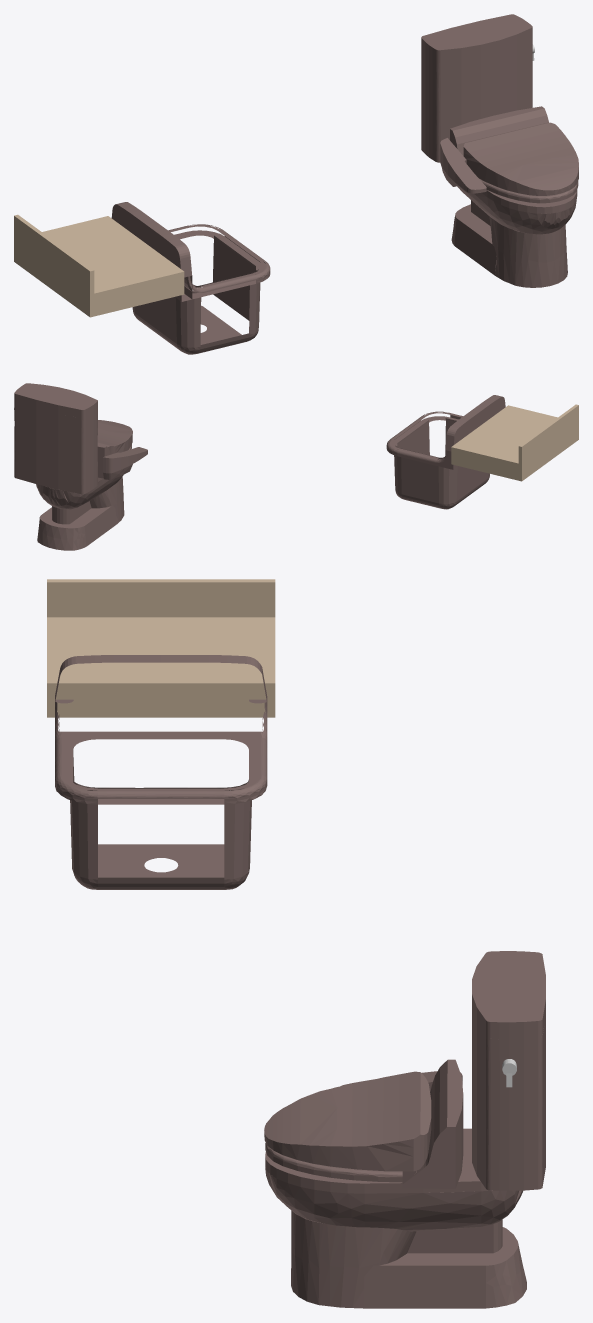
3 views of the same model, one above another, from view 1: azimuth 30°, elevation 25°; view 2: azimuth 150°, elevation 25°; view 3: azimuth 270°, elevation 25° (orthographic). The views are drawn at different scales.
Size of the model in its own units: 2.73 by 0.901 by 1.32.
